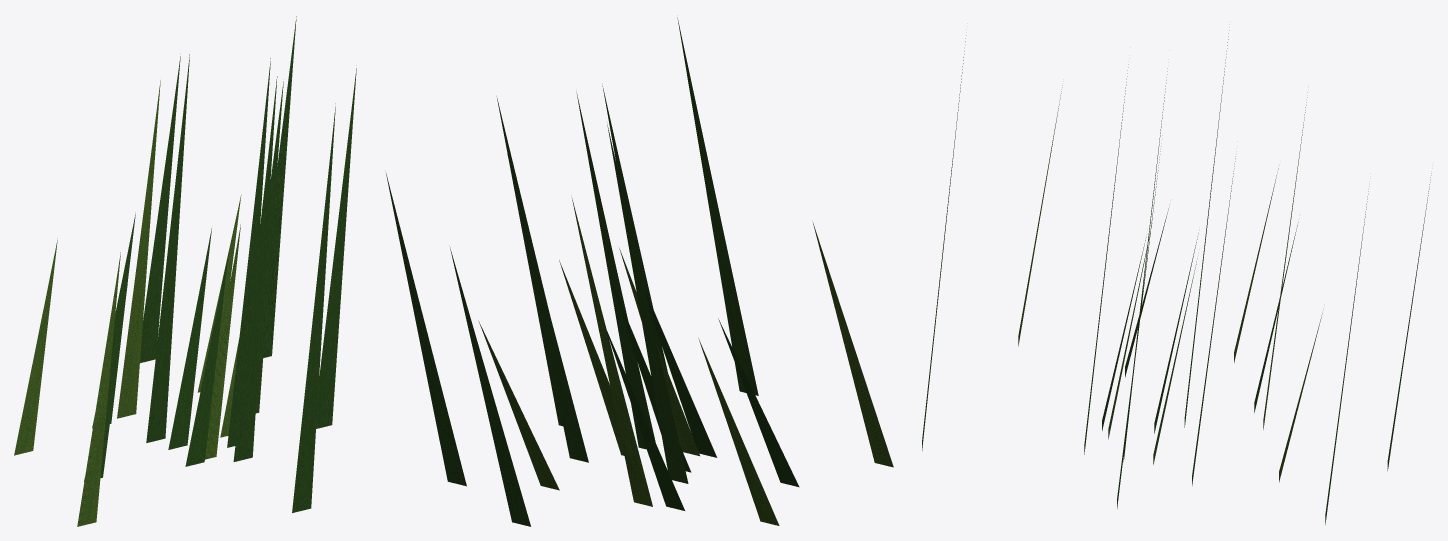
The model's file is grass_patch_01.fbx.
The picture shows the model from 3 angles, left to right: view 1: azimuth 30°, elevation 25°; view 2: azimuth 150°, elevation 25°; view 3: azimuth 270°, elevation 25°; orthographic projection. The views are drawn at different scales.
Parts seen in each view (by area): view 1: grass_patch_01_LOD0; view 2: grass_patch_01_LOD0; view 3: grass_patch_01_LOD0.
Part boxes in pixels (x1,y1,x2,y2): grass_patch_01_LOD0: [14, 16, 356, 526]; grass_patch_01_LOD0: [386, 17, 893, 526]; grass_patch_01_LOD0: [922, 30, 1431, 524].
Size of what is drawn, in the model's own units: 1 by 1 by 1.
